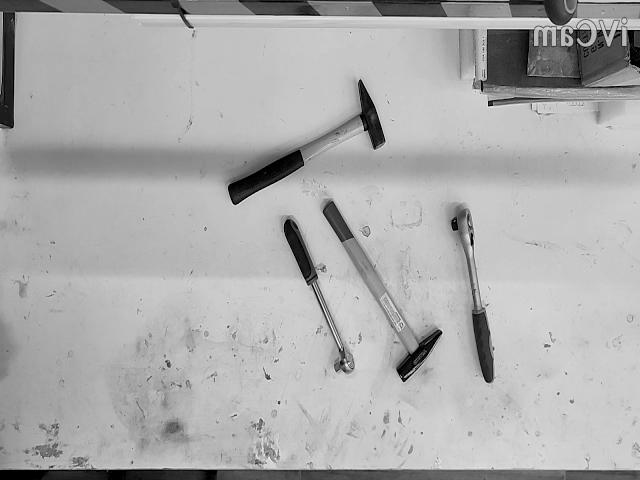Hammer: (322, 202, 442, 382), (228, 80, 385, 205)
Ratchet: (284, 218, 355, 373), (451, 208, 495, 383)
